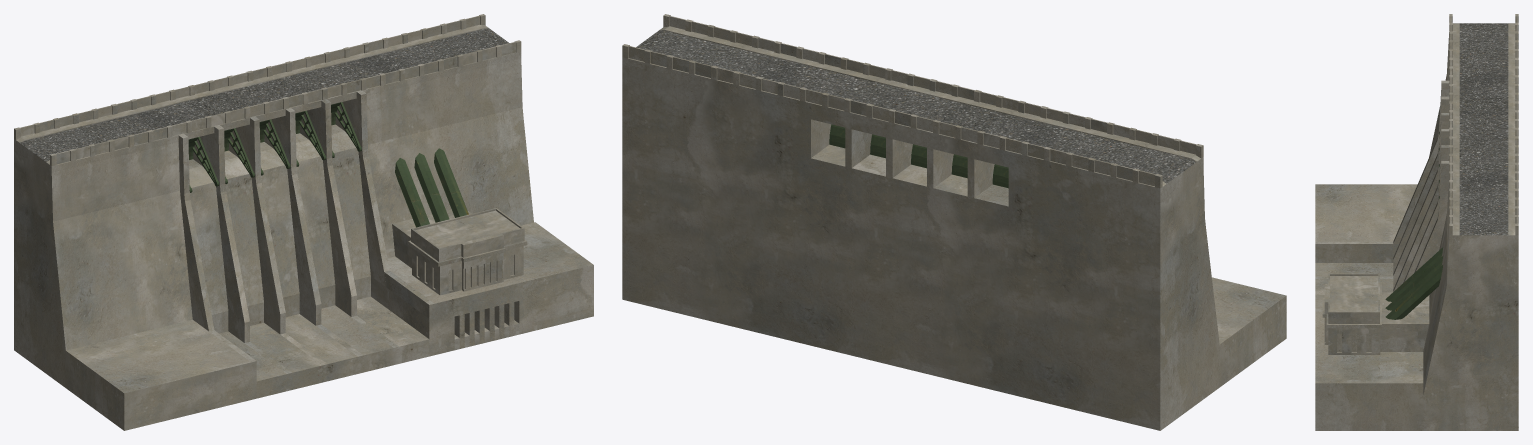
The model's file is gravity_dam.glb.
The picture shows the model from 3 angles, left to right: view 1: azimuth 30°, elevation 25°; view 2: azimuth 150°, elevation 25°; view 3: azimuth 270°, elevation 25°; orthographic projection. The views are drawn at different scales.
Parts seen in each view (by area): view 1: dam_6, dam-top_7, powerhouse_5, penstocks_4, gate-1_8, gate-4_11, gate-2_9, gate-3_10, gate-5_12; view 2: dam_6, dam-top_7; view 3: dam_6, dam-top_7, powerhouse_5, penstocks_4.
Part boxes in pixels (x1,y1,x2,y2): dam_6: (14,52,593,430); dam-top_7: (14,14,521,165); powerhouse_5: (392,208,527,295); penstocks_4: (395,148,468,227); gate-1_8: (188,136,219,192); gate-4_11: (295,110,326,166); gate-2_9: (224,128,254,183); gate-3_10: (259,119,290,175); gate-5_12: (331,102,361,157); dam_6: (622,57,1286,430); dam-top_7: (622,14,1203,188); dam_6: (1315,32,1518,430); dam-top_7: (1449,14,1518,235); powerhouse_5: (1322,273,1429,354); penstocks_4: (1385,247,1443,319).
Size of the model in its own units: 29.3 by 13.22 by 11.9.
6 materials, 6 textured.
